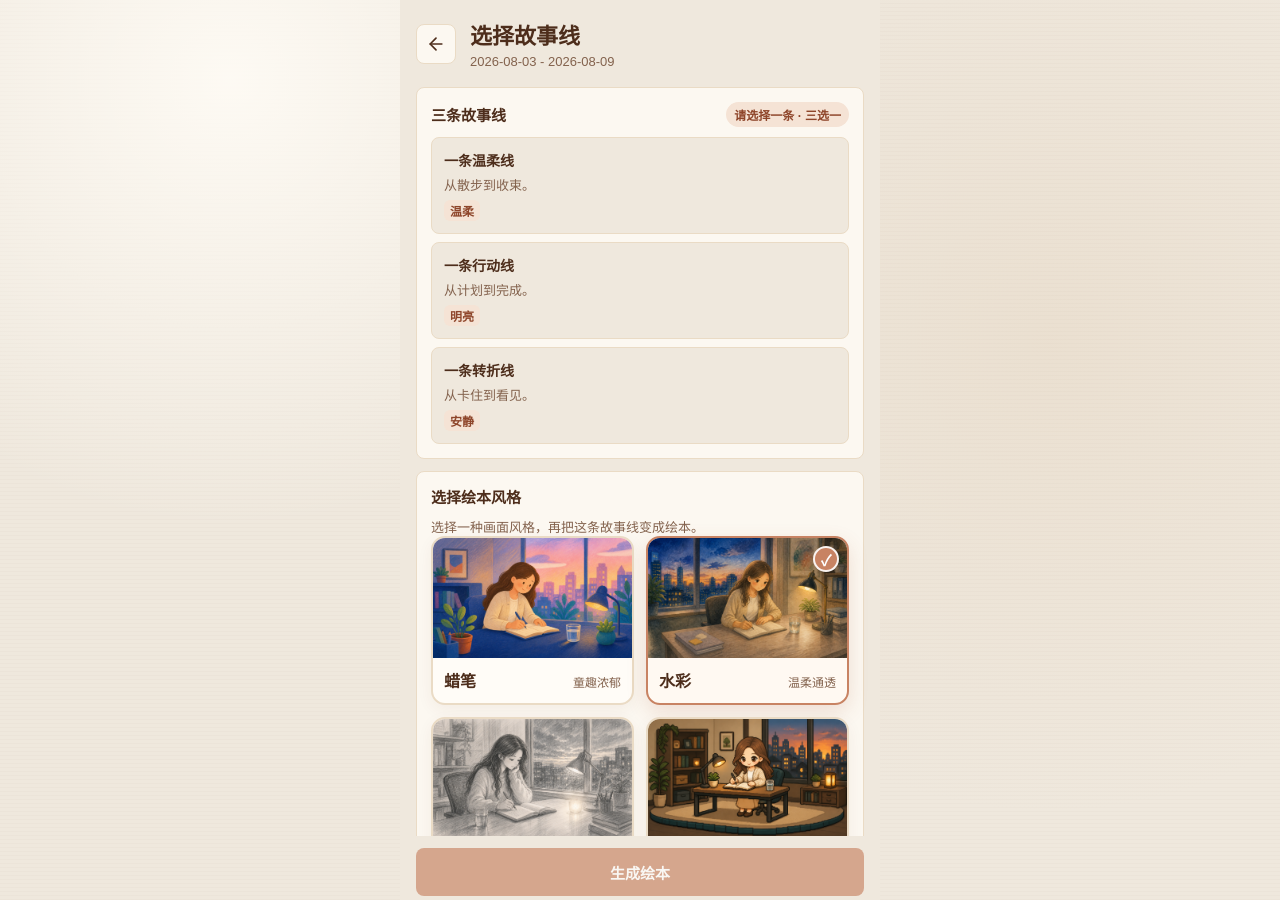
Test: TimeStoryWizard › waits for storyline selection to be saved before narrative generation
Later steps or results of the test are not shown.
Click the radio button labelled "一条行动线 从计划到完成。 明亮" at (479, 266), box left=431, top=242, right=849, bottom=339
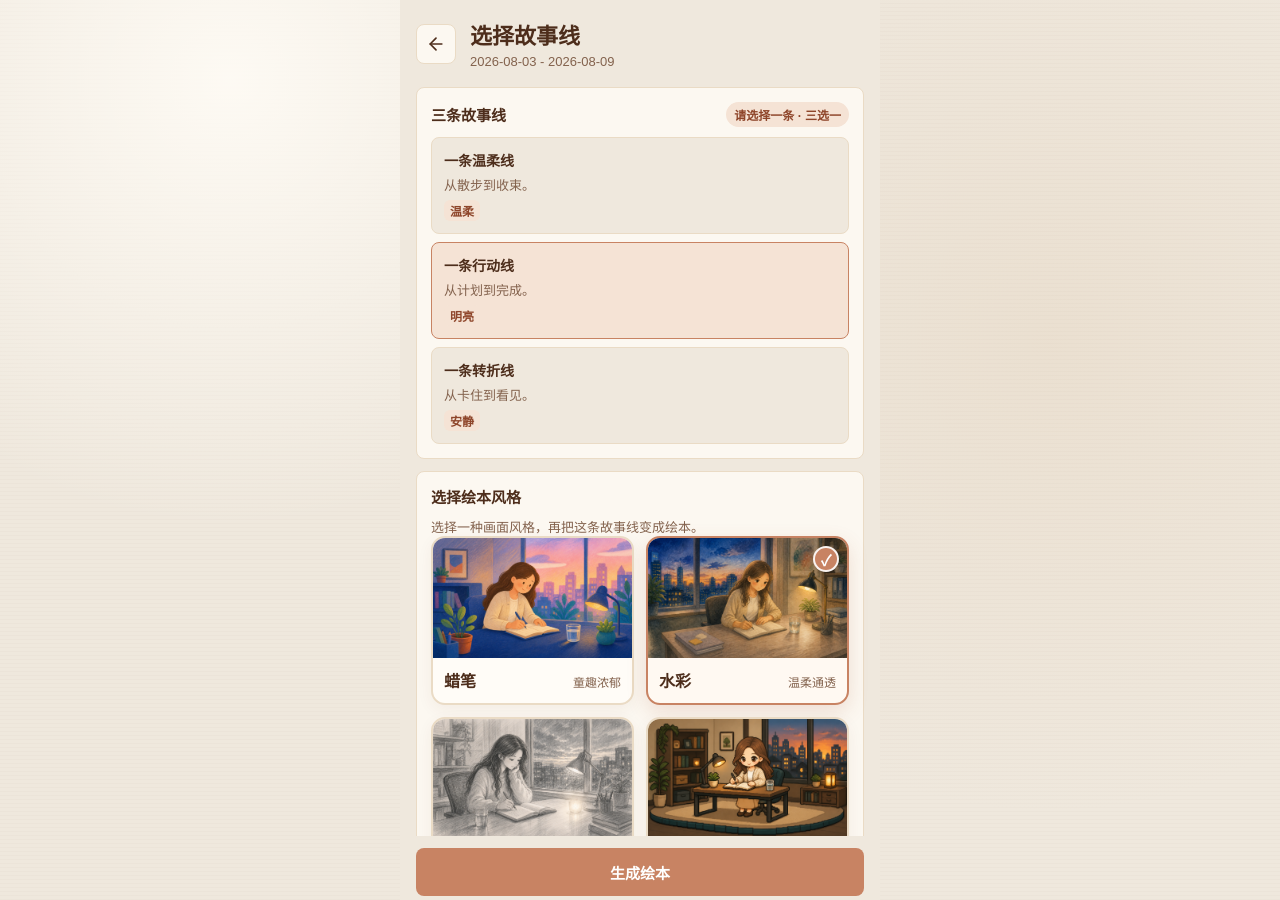
Now the button "生成绘本" is enabled, box left=416, top=848, right=864, bottom=896
